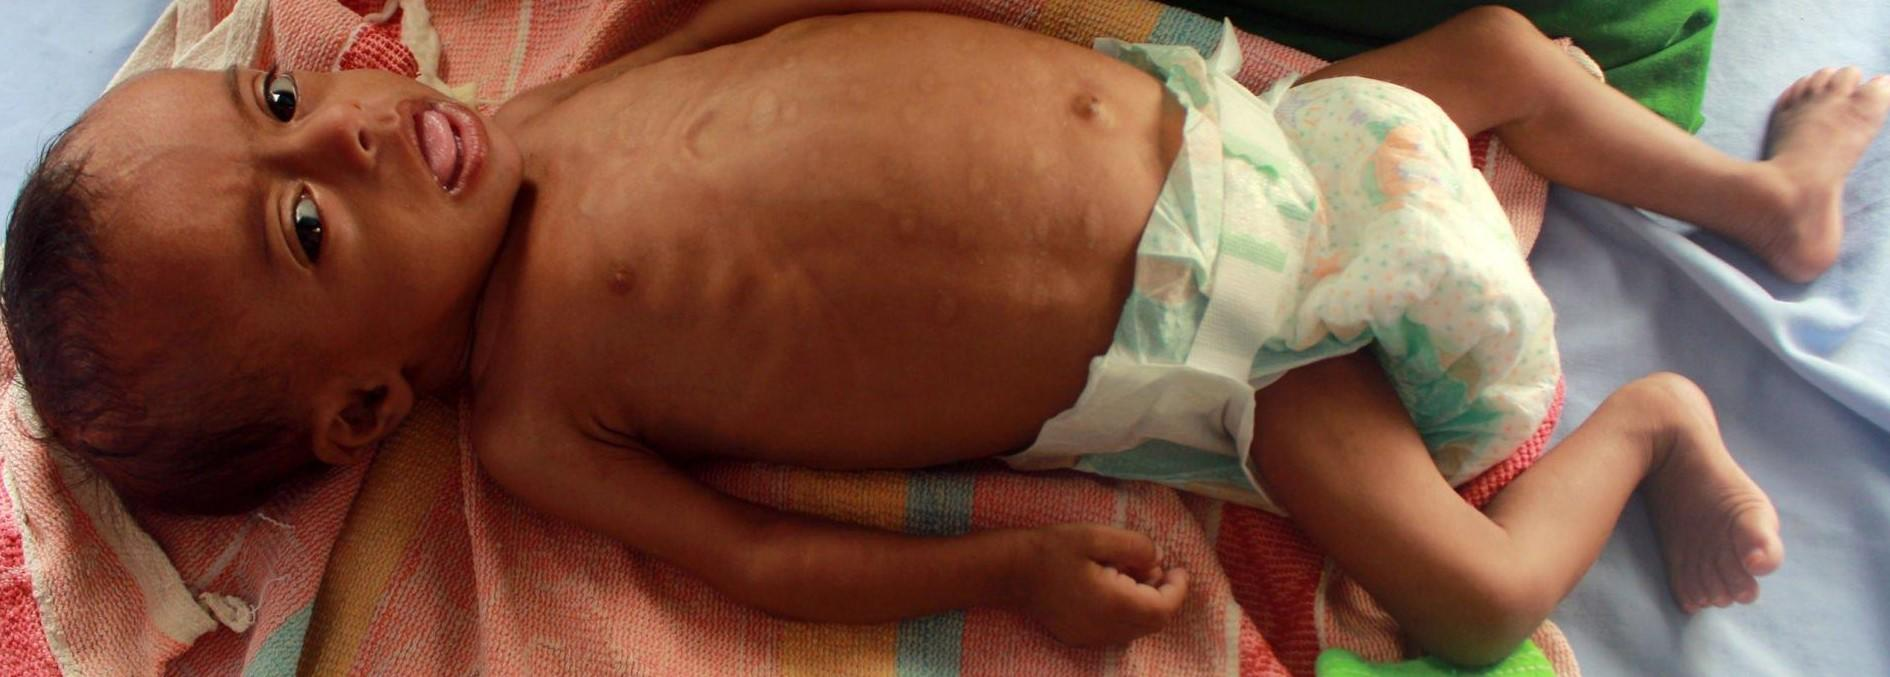Stunting: (65, 45, 550, 498)
